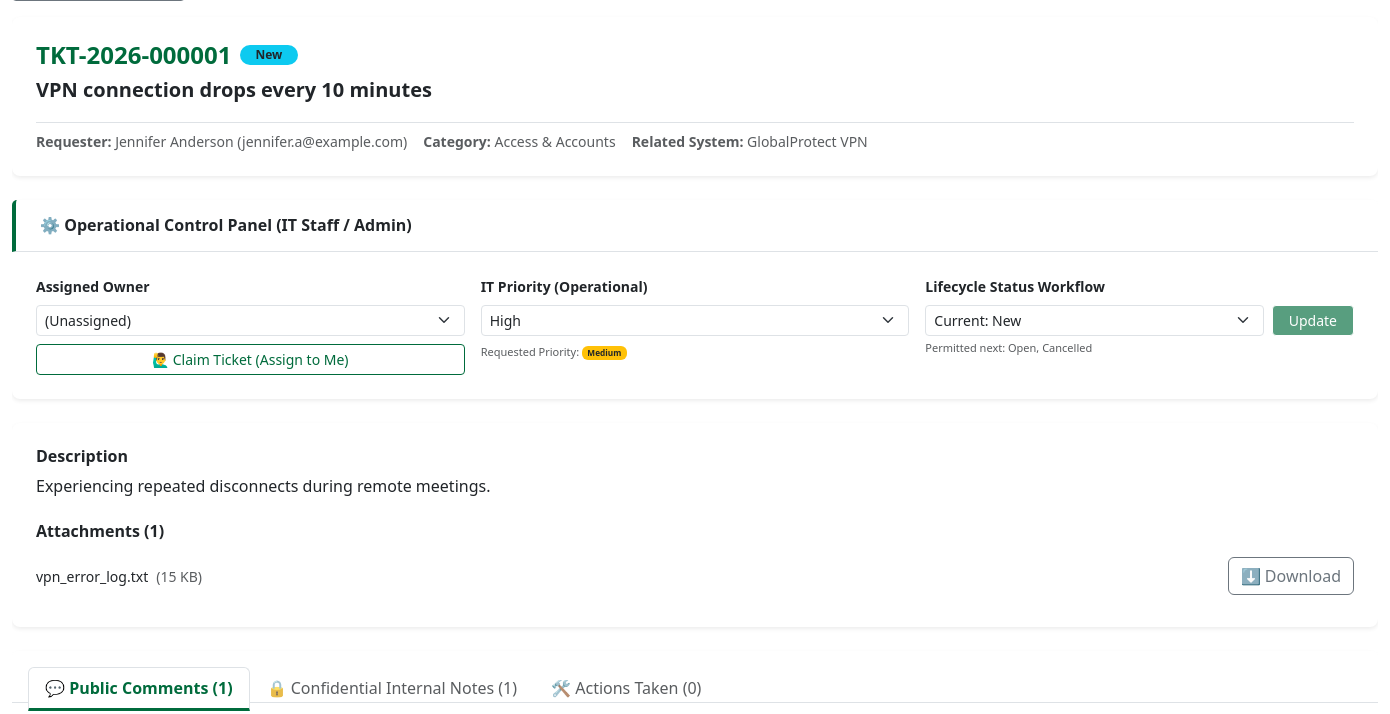
StaffTicketDetail Component (Issue 5 / Teacher Mockup 3) › switches between Public Comments and Confidential Internal Notes tabs (AC-12)
Expected: the button with test id "tab-public-comments" is shown, [28,667,250,711]
// Switch to Internal Notes tab
Click the button with test id "tab-internal-notes": {"x": 392, "y": 688} [250,667,534,709]
(page scrolled)
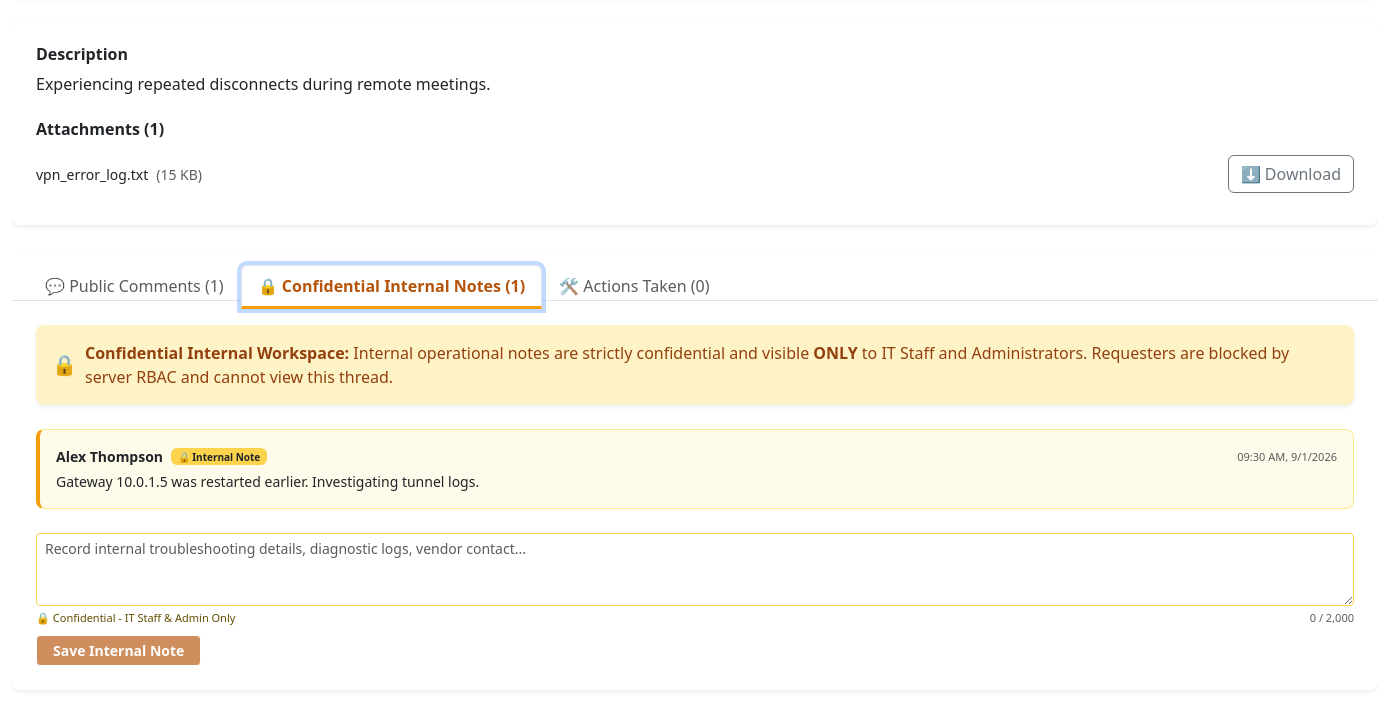
Result: the element with test id "internal-notes-security-notice" is shown at [36,325,1354,405]
Result: the text "Gateway 10.0.1.5 was restarted earlier. Investigating tunnel logs." is shown at [56,472,479,491]
